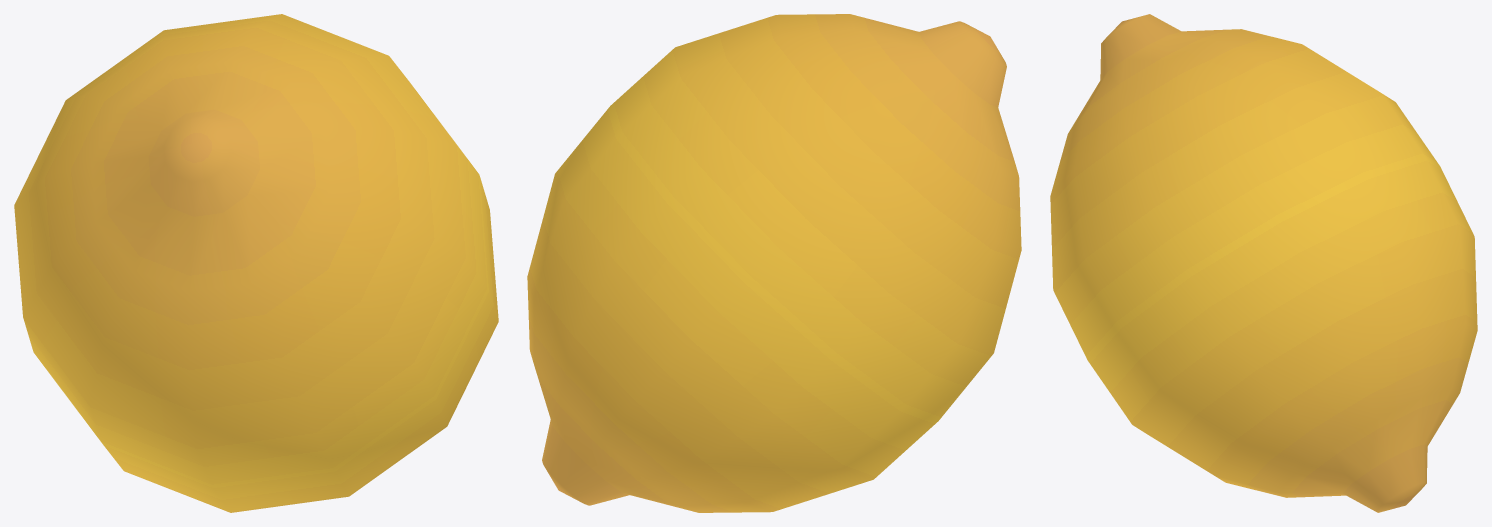
File: lemon_whole.glb
3 views of the same model, side by side, from view 1: azimuth 30°, elevation 25°; view 2: azimuth 150°, elevation 25°; view 3: azimuth 270°, elevation 25° (orthographic). The views are drawn at different scales.
Visible parts, largest first — view 1: mesh_lemon_01 - Default.001_0; view 2: mesh_lemon_01 - Default.001_0; view 3: mesh_lemon_01 - Default.001_0.
Boxes of the visible parts, bbox=[...] form: mesh_lemon_01 - Default.001_0: bbox=[14, 14, 498, 512]; mesh_lemon_01 - Default.001_0: bbox=[527, 14, 1021, 512]; mesh_lemon_01 - Default.001_0: bbox=[1050, 14, 1477, 512].
Bounding box in the file's own units: 120 × 126 × 120.
1 material, 1 textured.
